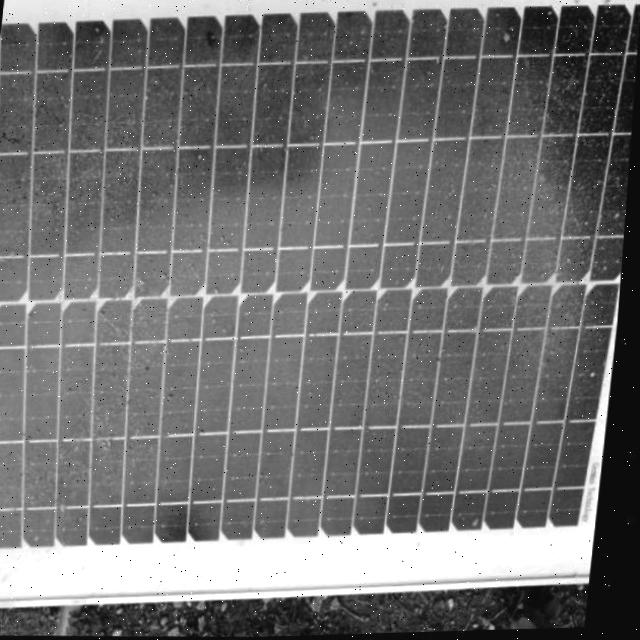Surface Contaminant: (0, 4, 640, 545)
